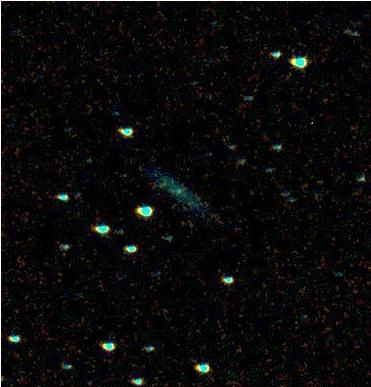star: (141, 159, 171, 189)
